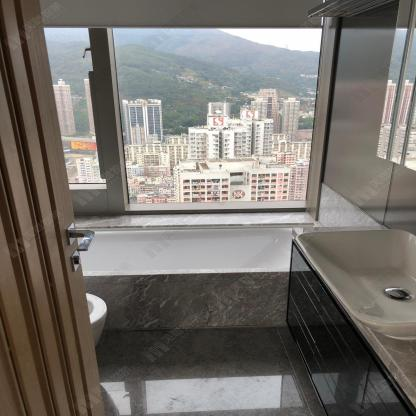Bathtub: (75, 224, 317, 330)
Toilet Sink: (296, 228, 415, 340)
